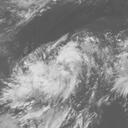cyclone: (14, 42, 87, 102)
